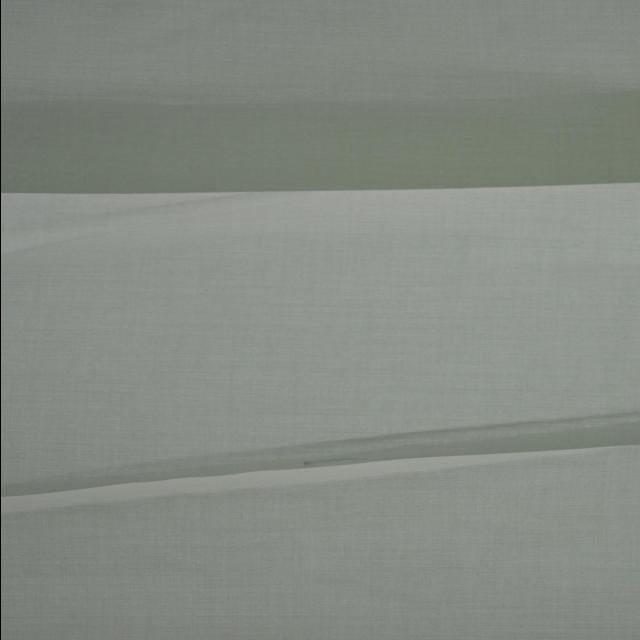dirty: (298, 459, 366, 466)
